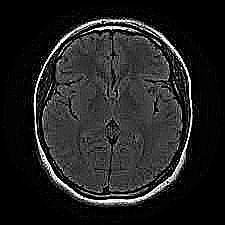Normal_Brain: (2, 2, 225, 223)
